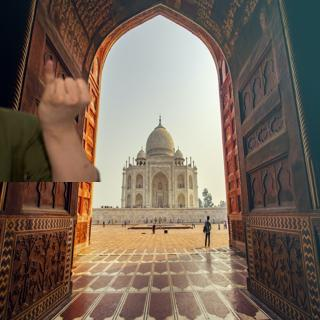FINE: (35, 59, 96, 138)
